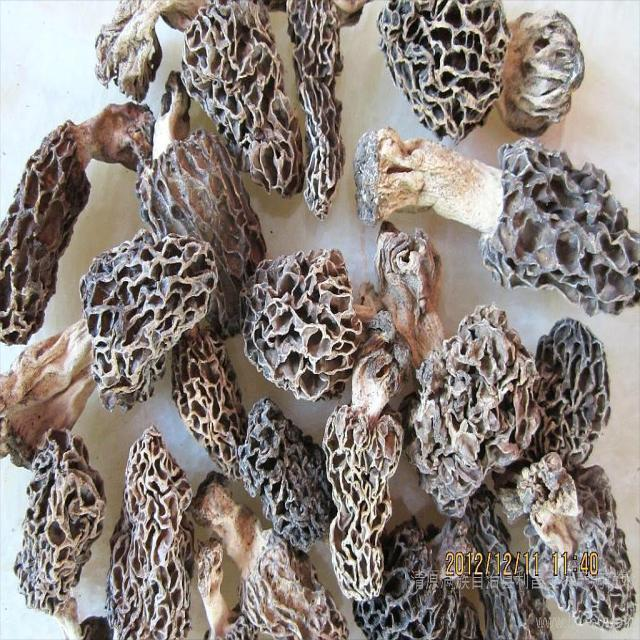Morchella esculenta: (356, 123, 640, 316), (0, 236, 223, 458), (376, 223, 540, 516), (96, 0, 304, 196), (0, 103, 152, 341), (379, 0, 584, 138), (205, 470, 354, 640), (241, 251, 384, 403), (287, 0, 378, 218), (328, 352, 404, 592), (9, 427, 98, 626), (118, 432, 195, 640)
